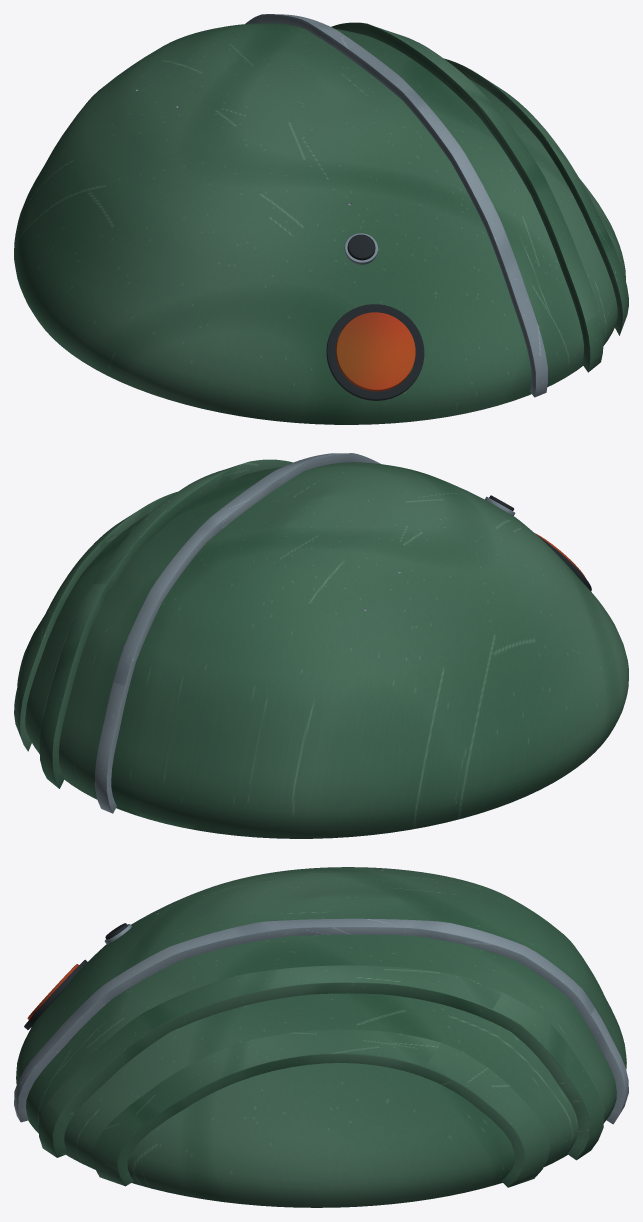
The picture shows the model from 3 angles, top to bottom: view 1: azimuth 30°, elevation 25°; view 2: azimuth 150°, elevation 25°; view 3: azimuth 270°, elevation 25°; orthographic projection. The views are drawn at different scales.
Parts seen in each view (by area): view 1: Healing Quarters low green isolation shell, Healing Quarters raised green rib 0, Healing Quarters continuous silver rib, Healing Quarters large copper inset, Healing Quarters raised green rib 1, Healing Quarters large copper inset clear rim, Healing Quarters small dark point; view 2: Healing Quarters low green isolation shell, Healing Quarters raised green rib 0, Healing Quarters continuous silver rib, Healing Quarters raised green rib 1; view 3: Healing Quarters low green isolation shell, Healing Quarters raised green rib 0, Healing Quarters raised green rib 1, Healing Quarters continuous silver rib, Healing Quarters large copper inset clear rim.
Boxes of the visible parts, x1=… form: Healing Quarters low green isolation shell: x1=14, y1=23, x2=625, y2=424; Healing Quarters raised green rib 0: x1=331, y1=22, x2=603, y2=372; Healing Quarters continuous silver rib: x1=245, y1=14, x2=547, y2=397; Healing Quarters large copper inset: x1=335, y1=312, x2=415, y2=391; Healing Quarters raised green rib 1: x1=444, y1=58, x2=628, y2=335; Healing Quarters large copper inset clear rim: x1=326, y1=304, x2=424, y2=400; Healing Quarters small dark point: x1=347, y1=234, x2=375, y2=260; Healing Quarters low green isolation shell: x1=17, y1=462, x2=628, y2=838; Healing Quarters raised green rib 0: x1=39, y1=459, x2=292, y2=788; Healing Quarters continuous silver rib: x1=94, y1=453, x2=380, y2=813; Healing Quarters raised green rib 1: x1=14, y1=491, x2=177, y2=751; Healing Quarters low green isolation shell: x1=16, y1=867, x2=626, y2=1207; Healing Quarters raised green rib 0: x1=38, y1=965, x2=603, y2=1160; Healing Quarters raised green rib 1: x1=93, y1=1029, x2=549, y2=1187; Healing Quarters continuous silver rib: x1=14, y1=918, x2=628, y2=1124; Healing Quarters large copper inset clear rim: x1=24, y1=959, x2=87, y2=1029.
Size of the model in its own units: 1.61 by 0.6691 by 1.78.
4 materials, 3 textured.
